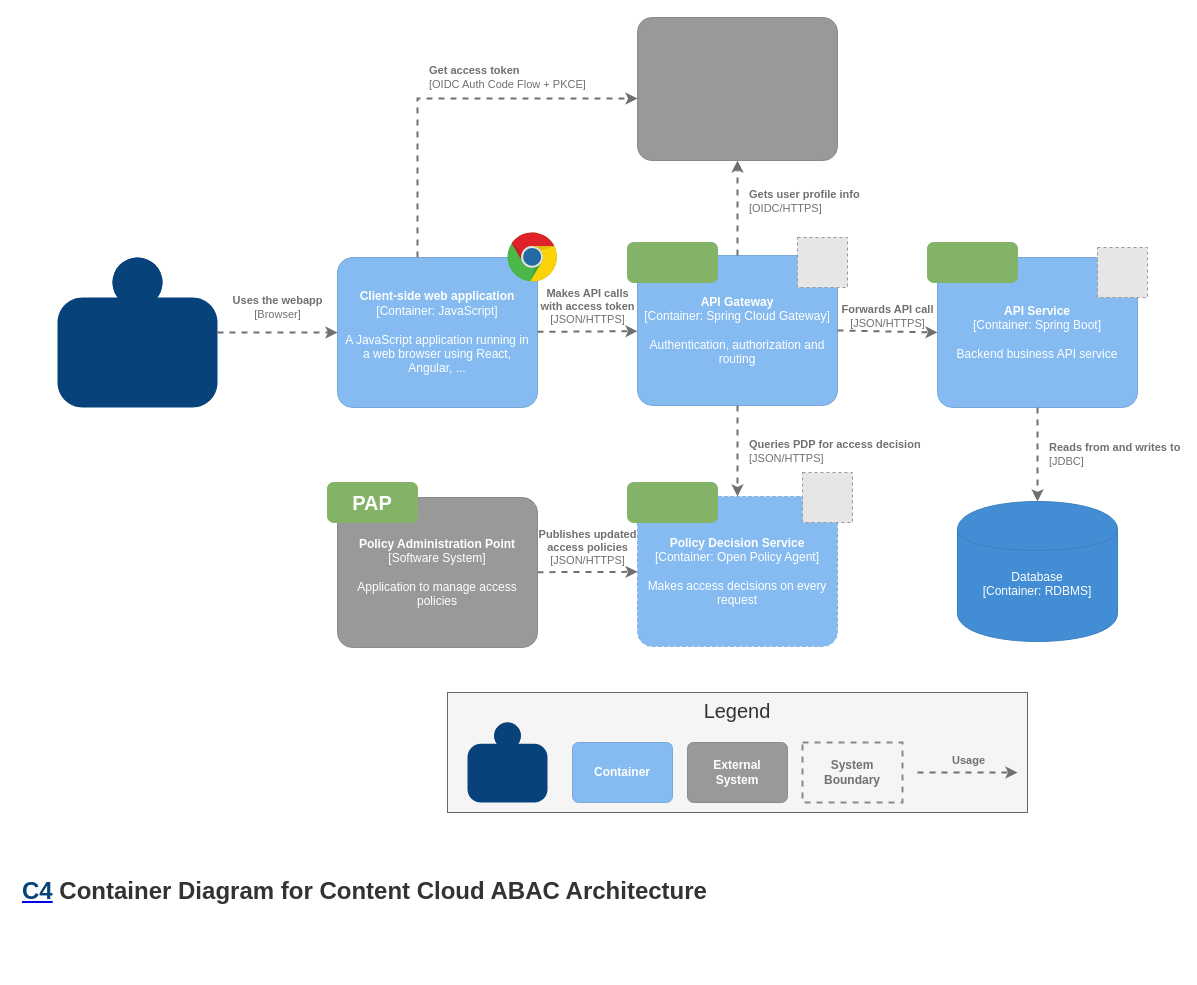
Image size: 1197x985. Some labels were removed from this diagram. Grey dashed boxes stand in for pictures. Here are the shapes that lost their labels. From the top down, the centre of each, then its label:
At (x=737, y=88): "Identity Provider [Software System] OIDC, ...".
At (x=672, y=262): "PEP".
At (x=972, y=262): "PEP 2".
At (x=137, y=332): "User [Person]".
At (x=672, y=502): "PDP".
At (x=507, y=762): "Person".
